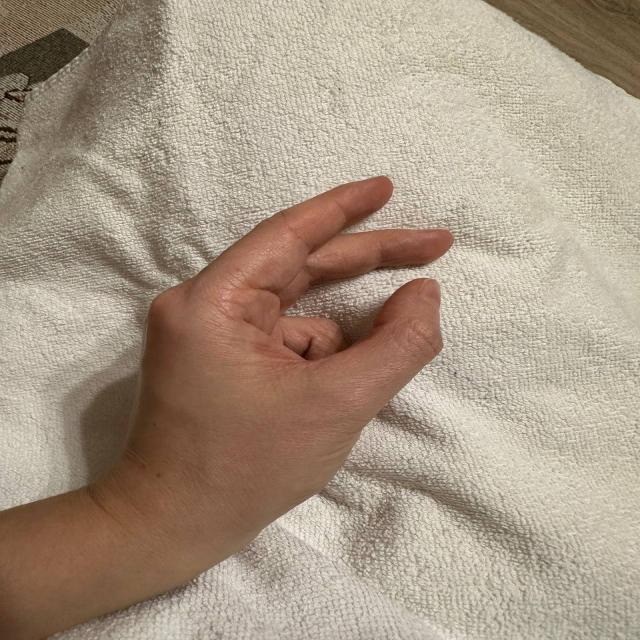b: (116, 150, 460, 513)
